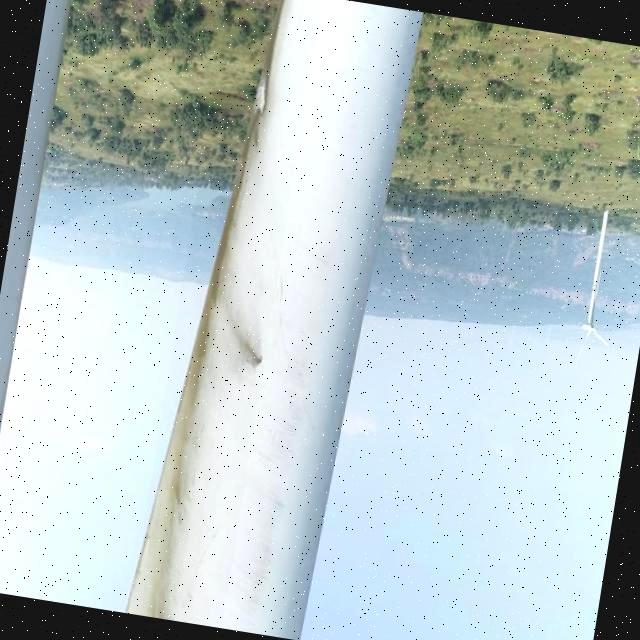Dirt: (124, 3, 285, 618)
Pin Hole: (247, 349, 267, 369)
